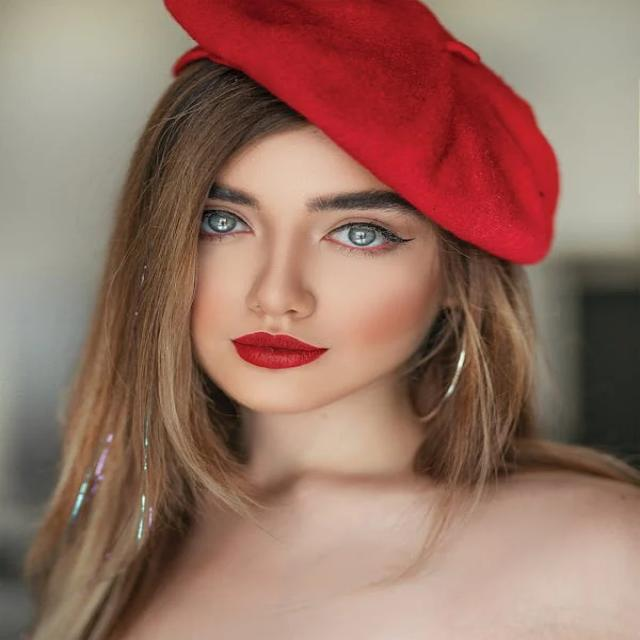no_mask: (137, 80, 490, 430)
